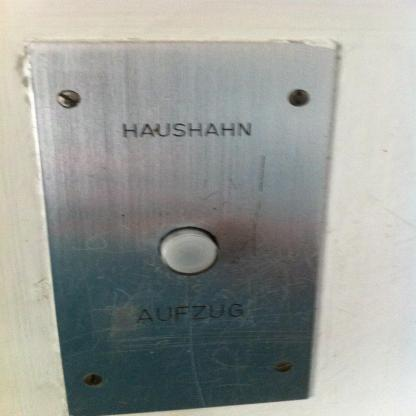empty: (157, 225, 220, 277)
